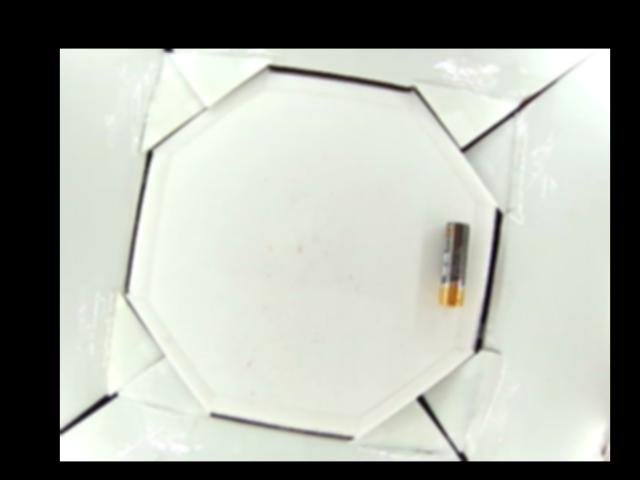Battery: (439, 220, 474, 310)
